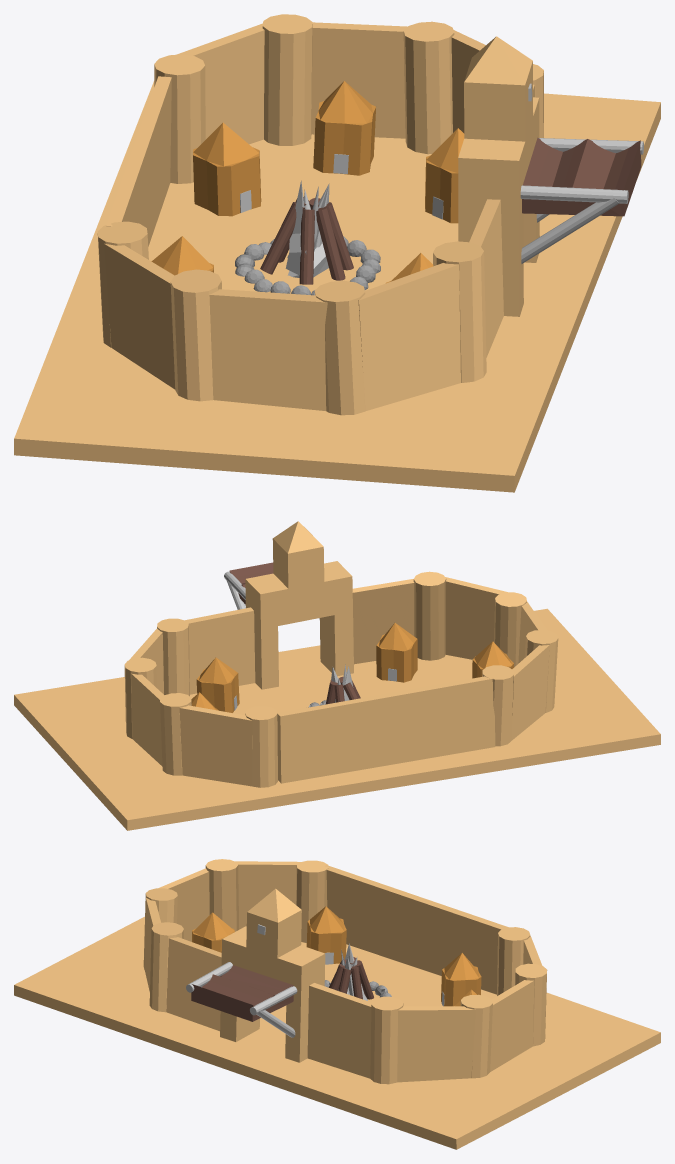
The picture shows the model from 3 angles, top to bottom: view 1: azimuth 30°, elevation 25°; view 2: azimuth 150°, elevation 25°; view 3: azimuth 270°, elevation 25°; orthographic projection. The views are drawn at different scales.
Parts seen in each view (by area): view 1: group480655813, group2018950120, group1592903414, group1745352260, group3601125, group1458509486, group207023630, group632427063, group1288580554, group199641493, group1502340873, group303385528 (+16 smaller); view 2: group480655813, group303385528, group1745352260, group207023630, group1168777138, group152822116, group1592903414, group1288580554, group1679826401, group1458509486, group3601125, group286508114 (+13 smaller); view 3: group480655813, group303385528, group1823879980, group1745352260, group1168777138, group152822116, group1502340873, group3601125, group1288580554, group1458509486, group2052218936, group2018950120 (+13 smaller).
Boxes of the visible parts, x1,y1,x2,y2 form: group480655813: (14,81,660,492); group2018950120: (209,289,327,410); group1592903414: (358,263,460,410); group1745352260: (458,97,539,316); group3601125: (311,22,407,138); group1458509486: (104,243,175,389); group207023630: (177,23,264,144); group632427063: (262,14,312,145); group1288580554: (464,36,533,141); group199641493: (403,21,454,154); group1502340873: (522,137,641,216); group303385528: (106,76,171,246); group480655813: (14,608,660,830); group303385528: (277,676,495,783); group1745352260: (245,561,353,689); group207023630: (179,705,252,786); group1168777138: (185,607,255,694); group152822116: (352,579,414,664); group1592903414: (445,577,507,659); group1288580554: (272,521,324,588); group1679826401: (413,571,446,660); group1458509486: (511,645,549,740); group3601125: (131,673,164,765); group286508114: (245,706,277,787); group480655813: (14,916,660,1149); group303385528: (325,865,508,994); group1823879980: (397,1006,475,1082); group1745352260: (220,926,325,1062); group1168777138: (307,983,371,1078); group152822116: (166,937,221,1031); group1502340873: (191,965,293,1021); group3601125: (490,980,534,1071); group1288580554: (246,888,301,957); group1458509486: (235,861,300,929); group2052218936: (370,996,403,1084); group2018950120: (158,868,209,941).
Size of the model in its own units: 1.41 by 0.4221 by 1.49.
